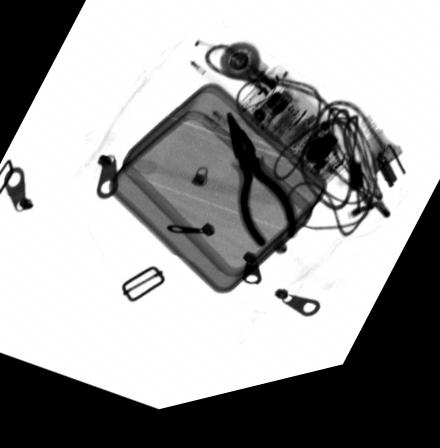Pliers: (225, 123, 297, 262)
